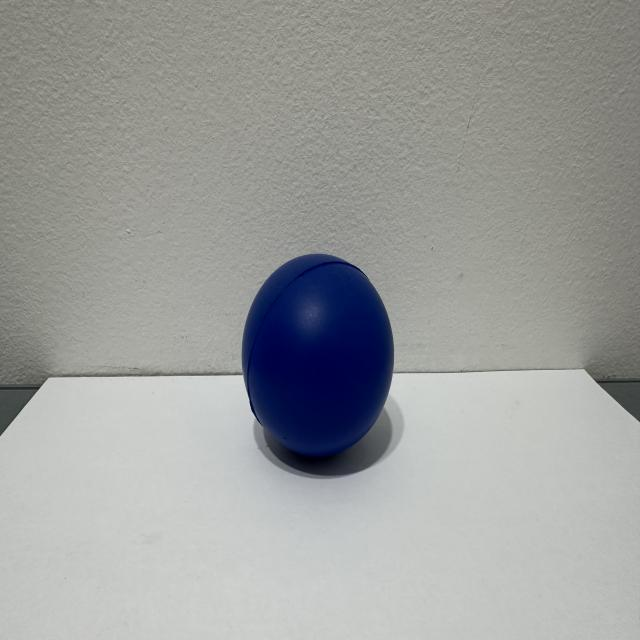blue_ball: (240, 257, 413, 476)
